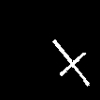single_crochet: (53, 40, 88, 85)
